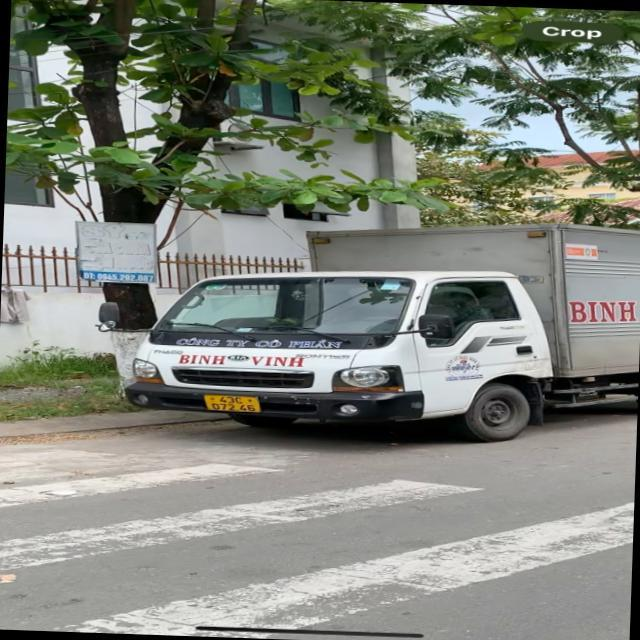car: (121, 220, 640, 445)
plate: (196, 387, 267, 420)
